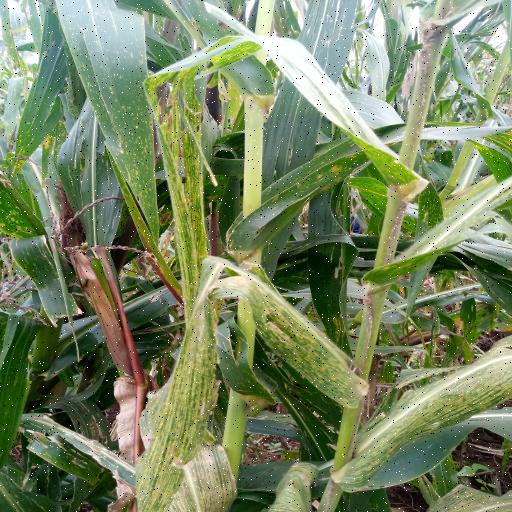Corn_Streak: (124, 34, 264, 500), (338, 338, 512, 492)
